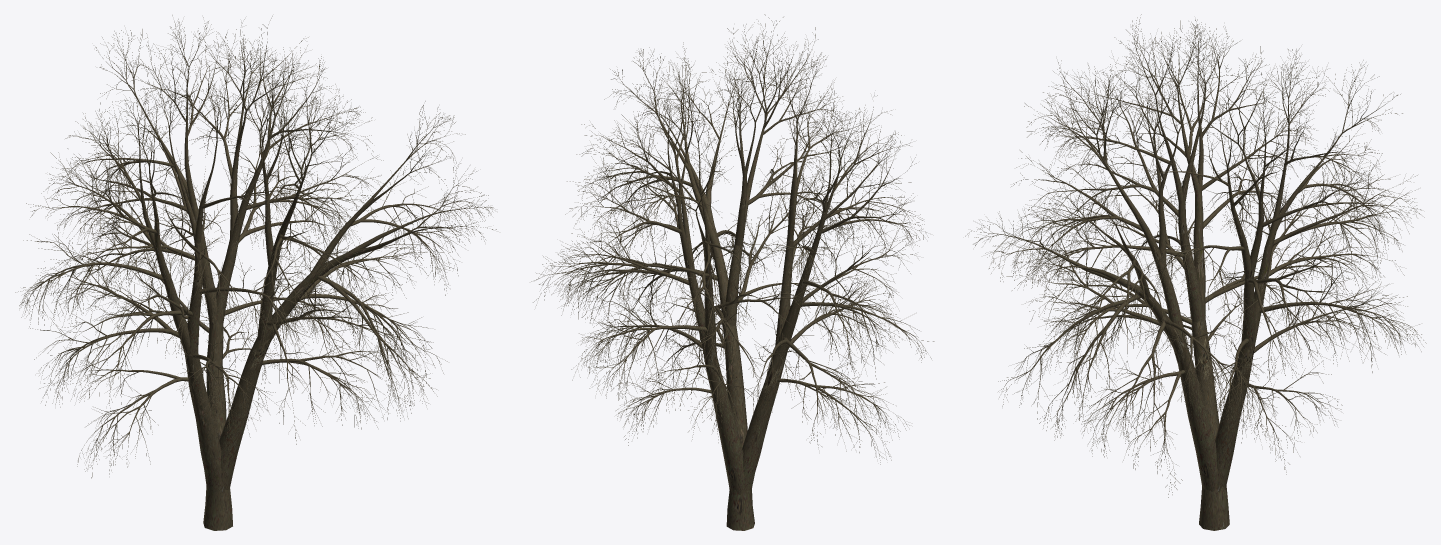
The model's file is oak2.fbx.
3 views of the same model, side by side, from view 1: azimuth 30°, elevation 25°; view 2: azimuth 150°, elevation 25°; view 3: azimuth 270°, elevation 25° (orthographic). The views are drawn at different scales.
Parts seen in each view (by area): view 1: tree; view 2: tree; view 3: tree.
Boxes of the visible parts, x1,y1,x2,y2 form: tree: (15, 15, 496, 530); tree: (531, 14, 934, 530); tree: (965, 14, 1426, 530).
Size of the model in its own units: 1450 by 1694 by 1447.
Materials: 1 (1 with a texture image).
